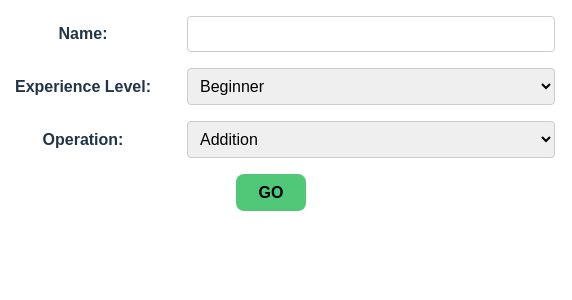
UserForm — profanity filter › clears the error when the name is cleared entirely
Type "shit" into the field labelled "Name:".
click(371, 34); type("shit")  # box left=187, top=16, right=555, bottom=52
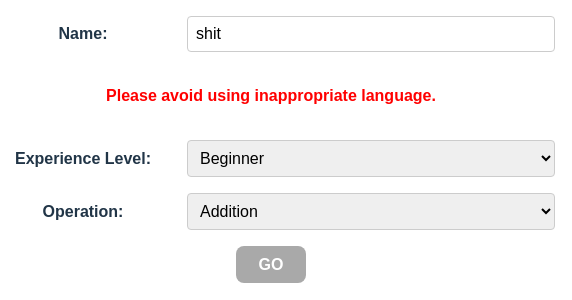
Clear the field labelled "Name:" at (371, 34), box left=187, top=16, right=555, bottom=52
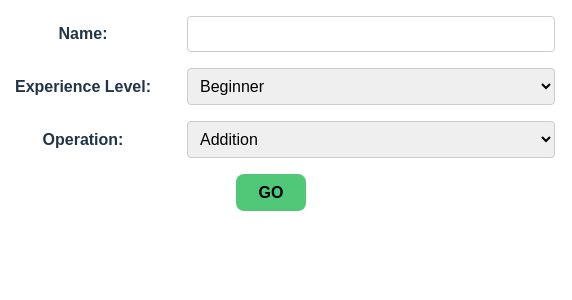
Expected: the text "inappropriate language" is gone
